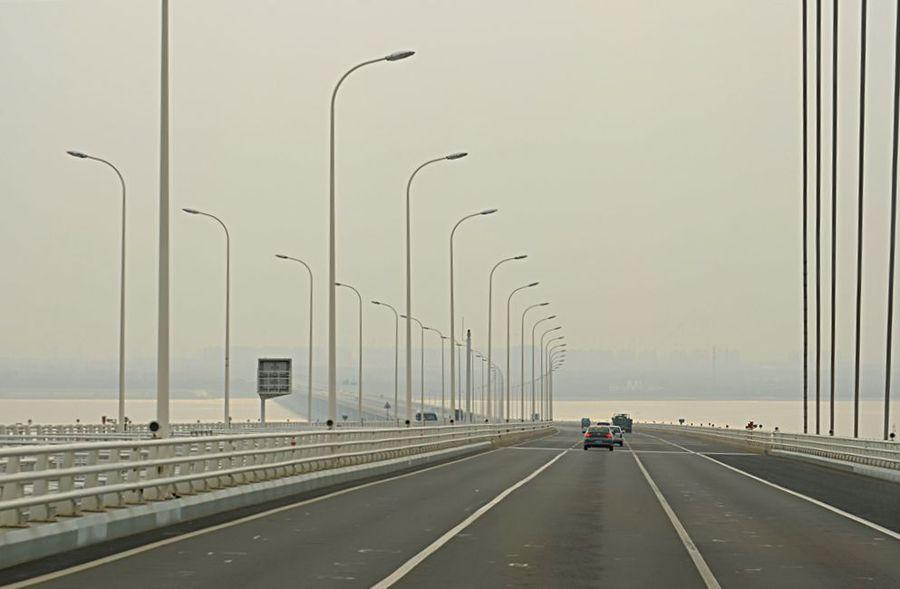bus: (611, 415, 633, 434), (448, 408, 464, 429), (581, 417, 591, 428)
car: (582, 426, 615, 451), (413, 409, 439, 431), (599, 426, 626, 447), (596, 422, 612, 433)
